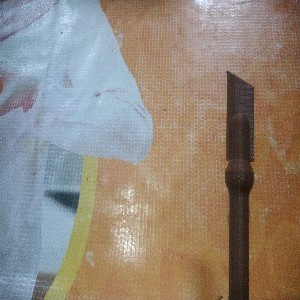cutter: (224, 69, 256, 300)
